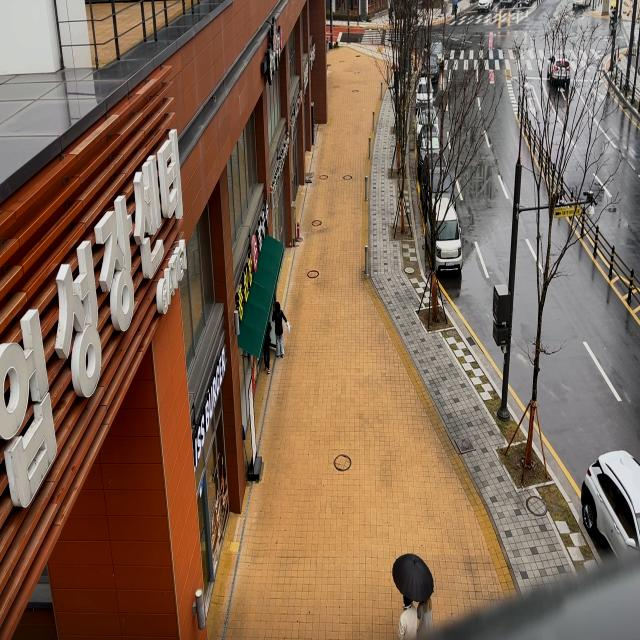Car: (579, 444, 640, 564), (424, 194, 464, 283), (416, 148, 460, 205), (544, 48, 575, 90), (416, 124, 446, 160), (413, 102, 446, 134), (413, 72, 437, 107), (428, 38, 450, 64), (422, 52, 441, 80)
